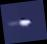Squash-Ball: (1, 0, 47, 44)
